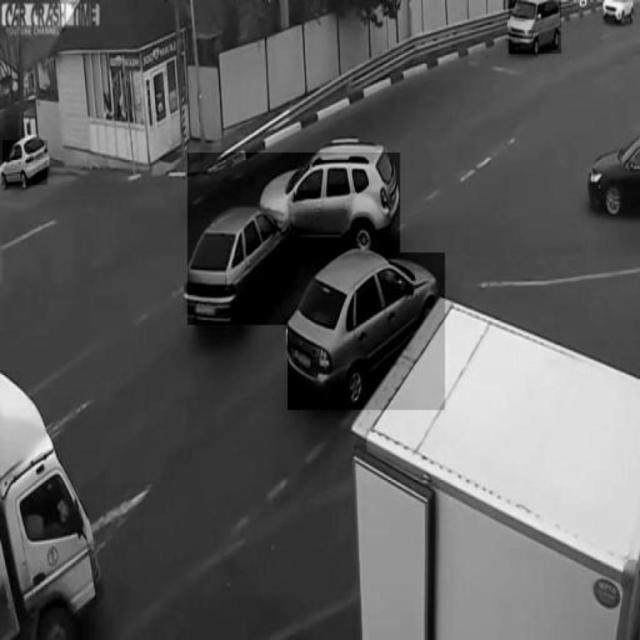accident: (188, 152, 400, 326)
vehicle: (288, 253, 445, 410), (509, 0, 561, 54), (2, 141, 48, 186)
